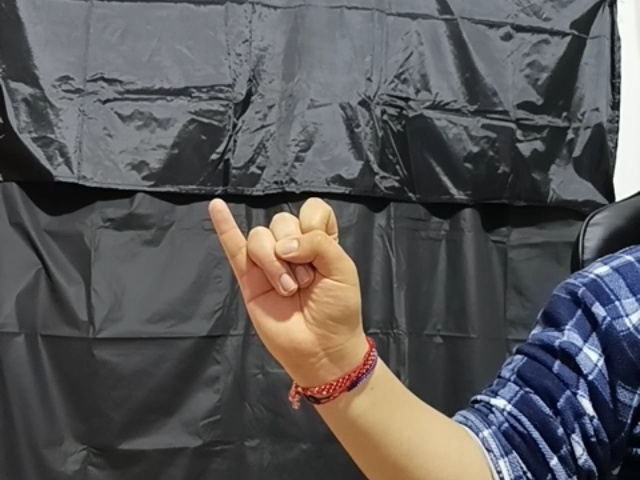I: (206, 195, 382, 357)
